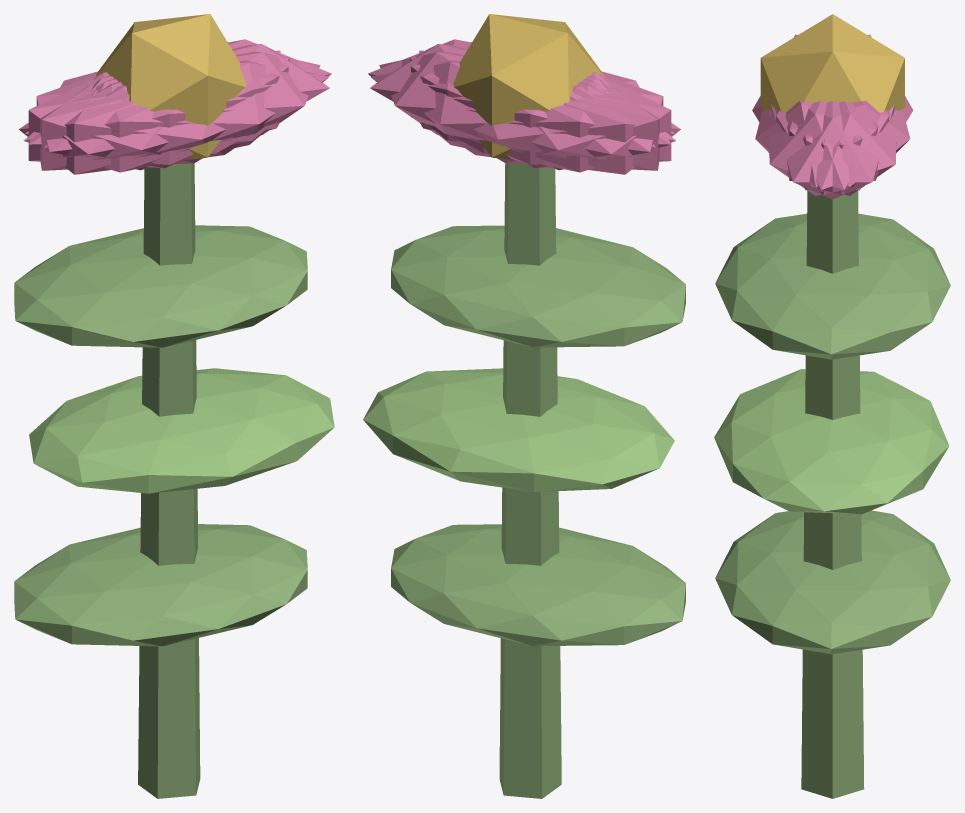
File: euphorbia-graminea.glb
3 renders of one model, left to right at view 1: azimuth 30°, elevation 25°; view 2: azimuth 150°, elevation 25°; view 3: azimuth 270°, elevation 25°, orthographic.
Parts seen in each view (by area): view 1: leaf1, leaf2, leaf0, stem, center, petal1, petal6, petal2, petal5, petal7, petal0, petal4 (+2 smaller); view 2: leaf1, leaf2, leaf0, stem, center, petal8, petal3, petal7, petal4, petal2, petal0, petal5 (+2 smaller); view 3: leaf1, leaf2, leaf0, stem, center, petal0, petal5, petal4, petal1, petal8.
Part boxes in pixels (x1,y1,x2,y2): leaf1: (29,368,334,493); leaf2: (14,225,307,347); leaf0: (14,524,307,646); stem: (138,163,200,798); center: (96,14,246,160); petal1: (23,60,328,172); petal6: (19,74,239,174); petal2: (40,50,280,170); petal5: (44,51,320,164); petal7: (28,57,289,168); petal0: (95,44,329,153); petal4: (25,39,331,144); leaf1: (363,368,674,491); leaf2: (391,225,685,347); leaf0: (391,524,685,646); stem: (499,163,561,798); center: (453,14,603,159); petal8: (371,60,675,172); petal3: (460,74,680,174); petal7: (419,50,659,170); petal4: (379,51,655,164); petal2: (410,57,671,168); petal0: (370,44,604,153); petal5: (368,39,674,144); leaf1: (714,369,949,514); leaf2: (715,213,950,359); leaf0: (715,510,950,654); stem: (801,190,864,798); center: (760,14,904,112); petal0: (771,101,894,199); petal5: (769,101,889,195); petal4: (776,101,896,195); petal1: (755,100,878,187); petal8: (787,100,910,187).
Bounding box in the file's own units: 0.1498 × 0.3519 × 0.1004.
